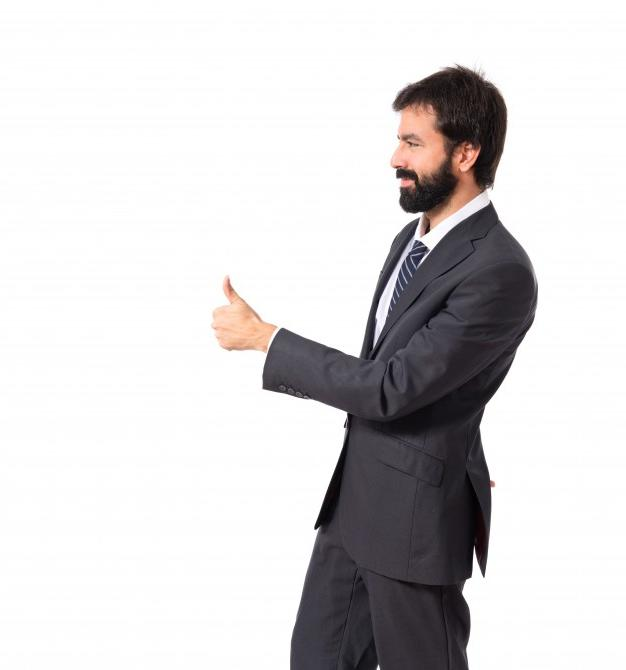thumbsup: (211, 274, 246, 351)
